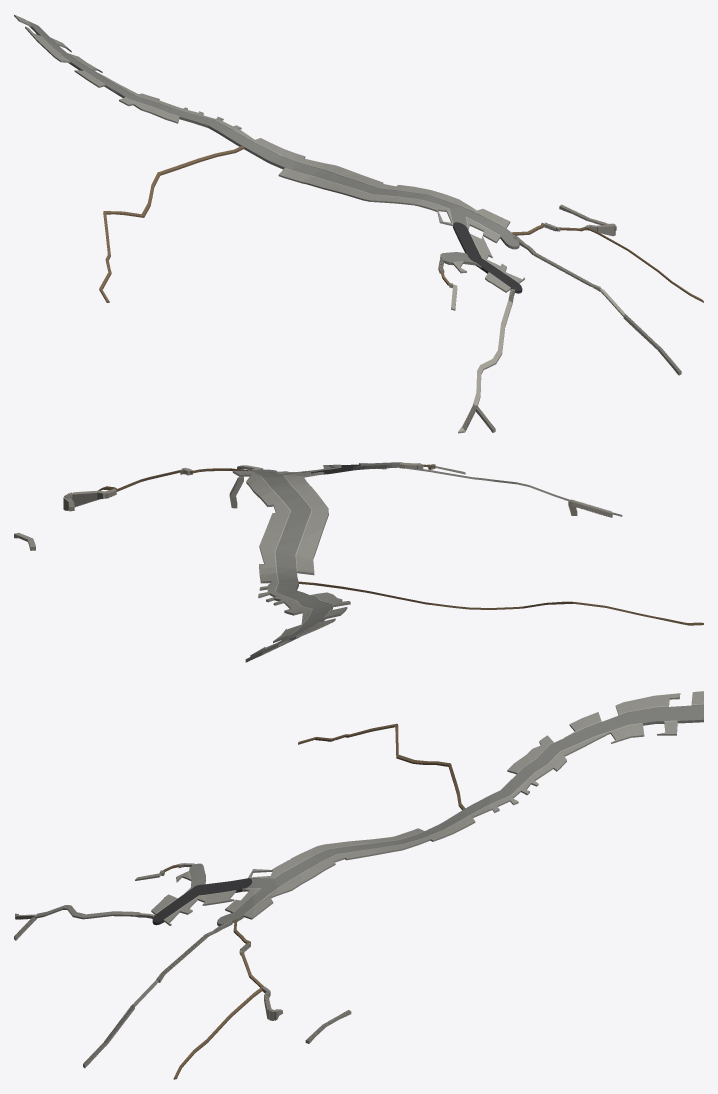
The picture shows the model from 3 angles, top to bottom: view 1: azimuth 30°, elevation 25°; view 2: azimuth 150°, elevation 25°; view 3: azimuth 270°, elevation 25°; orthographic projection. The views are drawn at different scales.
Size of the model in its own units: 255 by 97.8 by 292.
